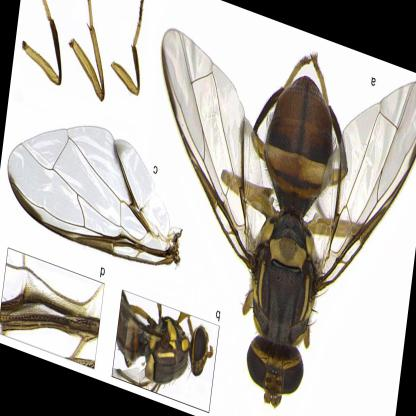fruit fly: (163, 29, 413, 409)
